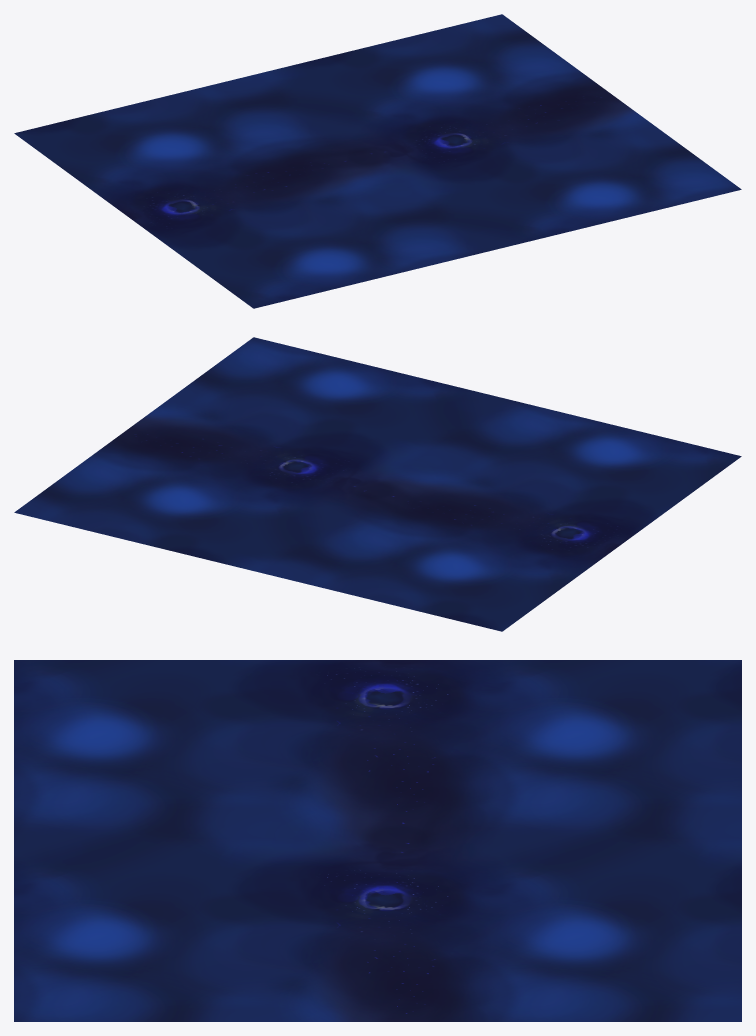
The model's file is Agua.fbx.
The picture shows the model from 3 angles, top to bottom: view 1: azimuth 30°, elevation 25°; view 2: azimuth 150°, elevation 25°; view 3: azimuth 270°, elevation 25°; orthographic projection. The views are drawn at different scales.
Parts seen in each view (by area): view 1: Cube; view 2: Cube; view 3: Cube.
Boxes of the visible parts, x1,y1,x2,y2 form: Cube: (14, 14, 741, 308); Cube: (14, 337, 741, 631); Cube: (14, 660, 741, 1021).
Bounding box in the file's own units: 19880 × 16902 × 0.
